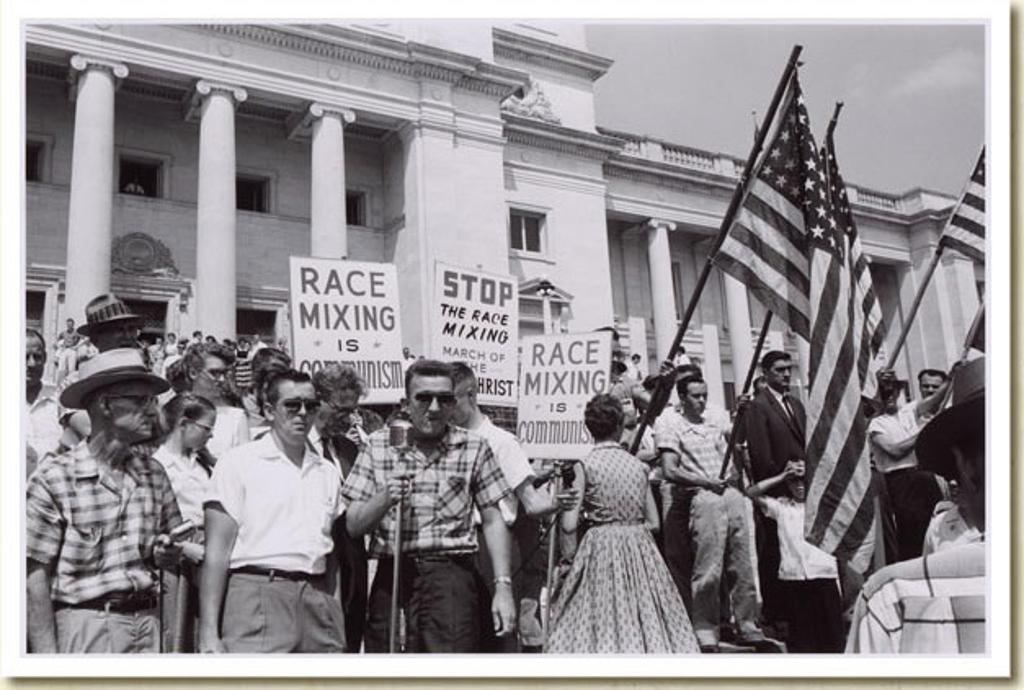face: (111, 377, 158, 437), (409, 384, 454, 436), (275, 389, 317, 438), (97, 317, 137, 361), (322, 396, 356, 436), (198, 362, 227, 396), (443, 388, 470, 424), (26, 340, 46, 382), (611, 396, 637, 427), (189, 418, 213, 450), (788, 470, 811, 499), (600, 341, 621, 372), (686, 387, 708, 415), (768, 363, 793, 387), (922, 380, 944, 405), (880, 382, 900, 409)
